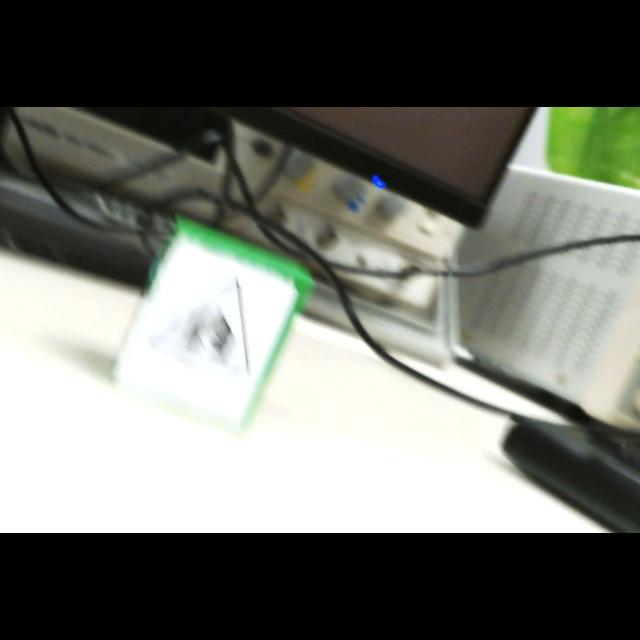Earthquake: (150, 278, 249, 374)
